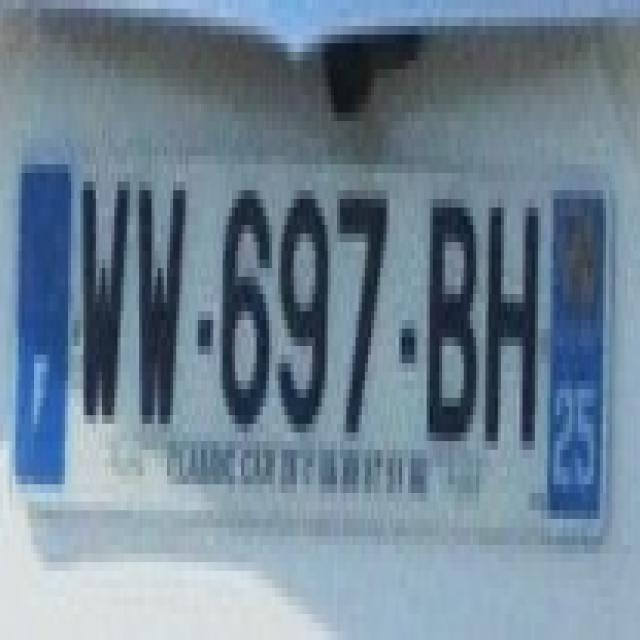EU: (14, 174, 610, 533)
France: (9, 169, 71, 487)
